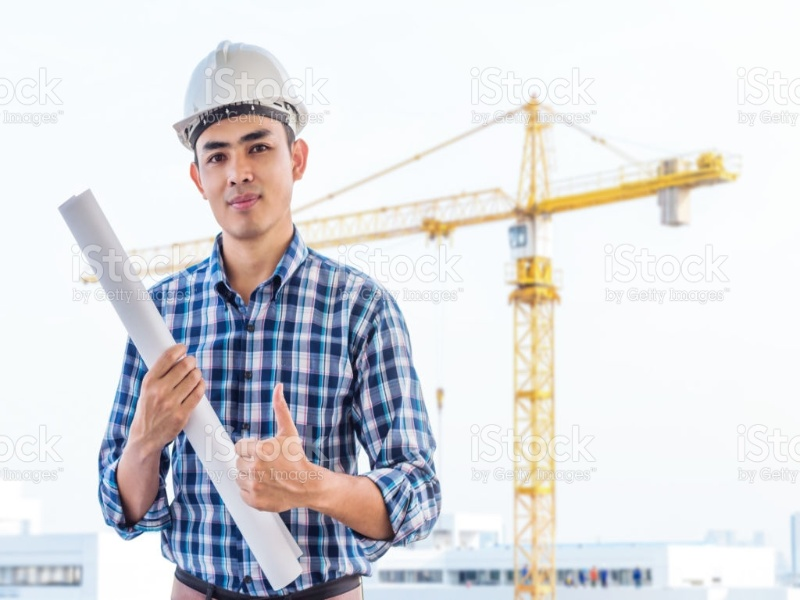casco: (168, 37, 313, 154)
